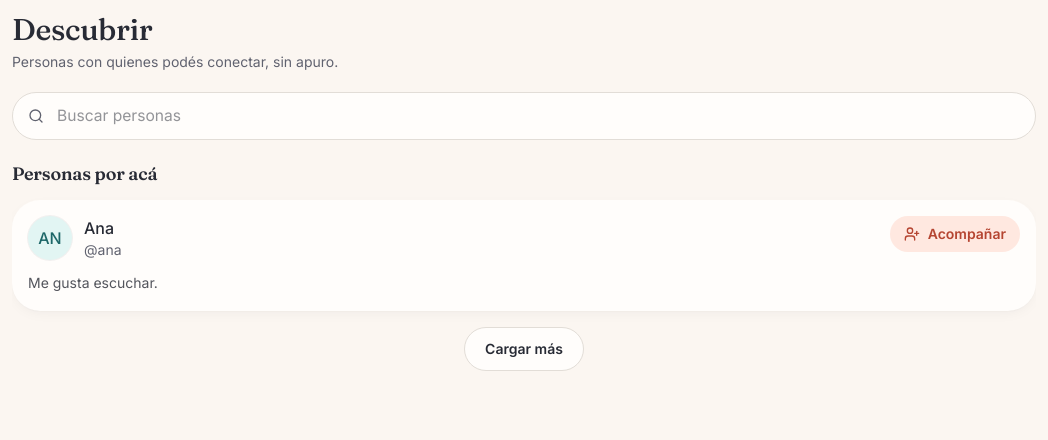
DiscoverPage › loads the next page without duplicates and hides the button on the last page
The image size is (1048, 440).
Check: the text "Ana" is shown, box top-left (84, 218), bottom-right (114, 238)
Click the button "Cargar más" at (524, 349), box top-left (464, 327), bottom-right (584, 371)
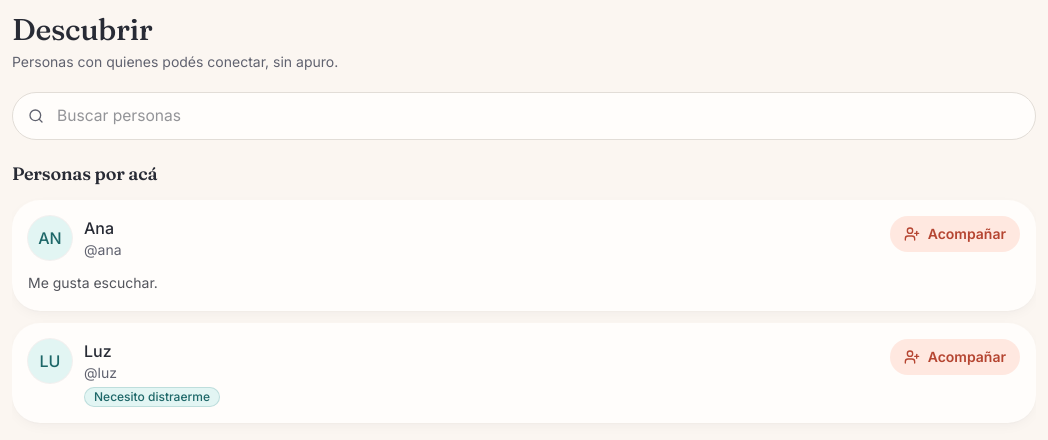
Check: the text "Luz" is shown, box top-left (84, 341), bottom-right (112, 361)
Check: the text "Necesito distraerme" is shown, box top-left (84, 387), bottom-right (220, 407)
Check: the button "Cargar más" is gone
